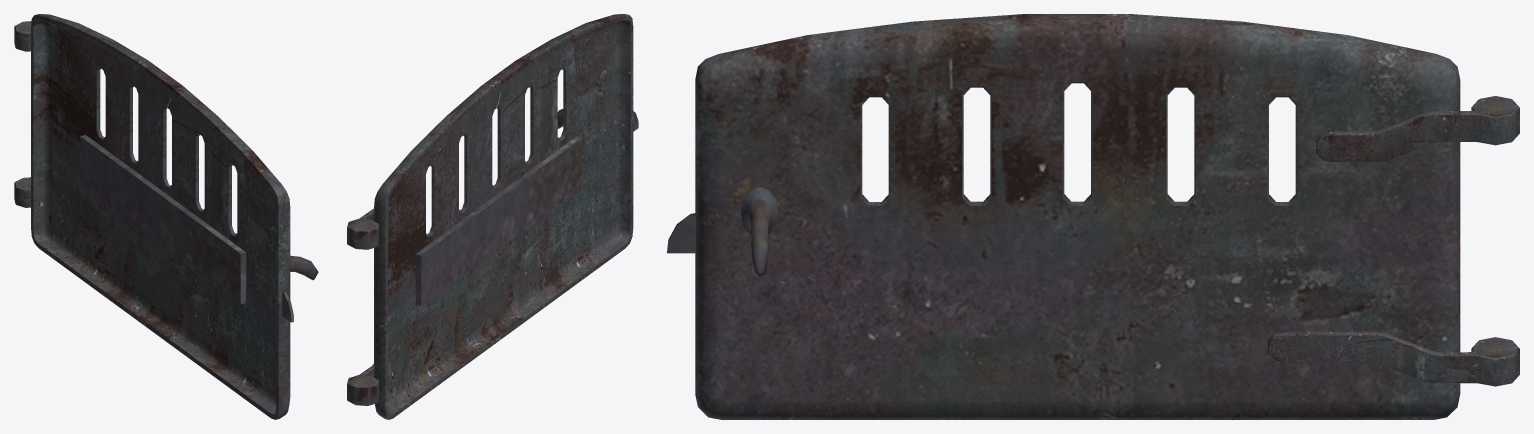
Rendered from SM_BoilerDoor.FBX.
3 renders of one model, left to right at view 1: azimuth 30°, elevation 25°; view 2: azimuth 150°, elevation 25°; view 3: azimuth 270°, elevation 25°, orthographic. The views are drawn at different scales.
Visible parts, largest first — view 1: SM_BoilerDoor_LOD0; view 2: SM_BoilerDoor_LOD0; view 3: SM_BoilerDoor_LOD0.
Boxes of the visible parts, <box> form: SM_BoilerDoor_LOD0: <box>14,14,318,419</box>; SM_BoilerDoor_LOD0: <box>347,14,638,419</box>; SM_BoilerDoor_LOD0: <box>667,14,1519,419</box>.
Size of what is drawn, in the model's own units: 8.37 by 32.04 by 61.86.
